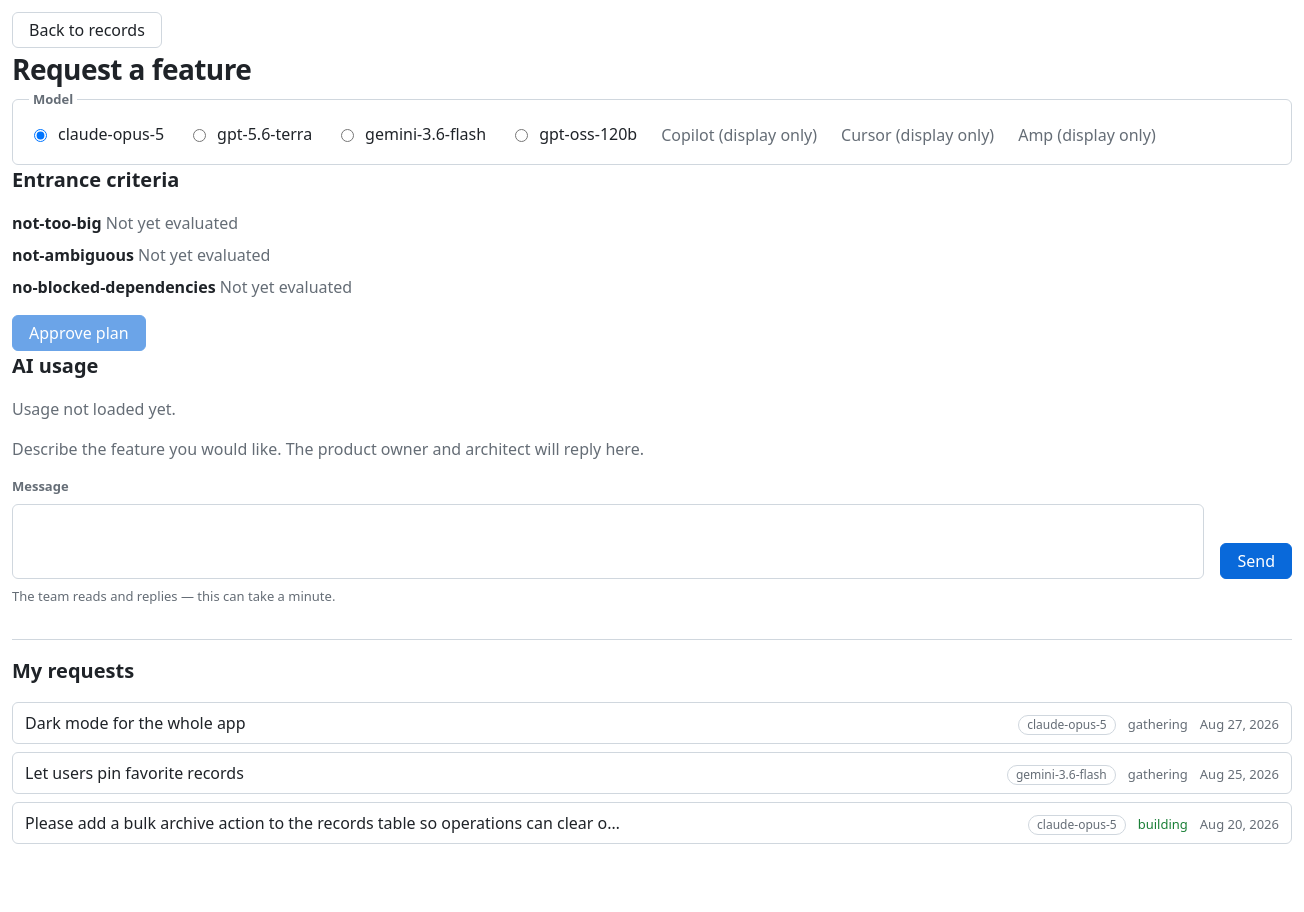
Test: DAN-74 tester — the list never interferes with starting fresh › the new-request flow stays the default action and unmounts the list once used
Expected: the radio button labelled "claude-opus-5" is checked, top-left (34, 128), bottom-right (47, 142)
Expected: the radio button labelled "claude-opus-5" is enabled, top-left (34, 128), bottom-right (47, 142)
Type "Export records as CSV" into the text box labelled "Message" at (608, 542), box top-left (12, 504), bottom-right (1204, 579)
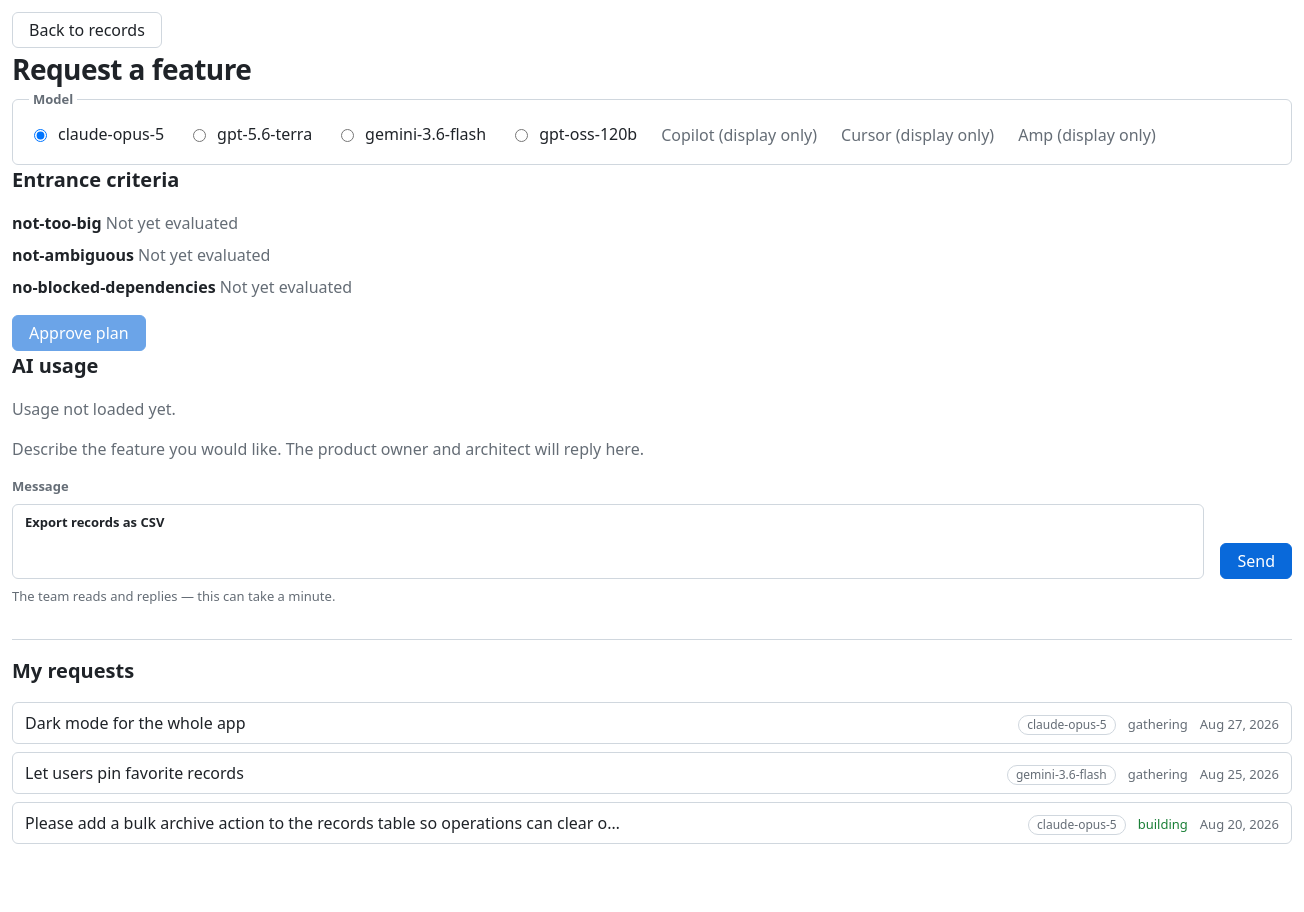
Click the button "Send" at (1256, 561), box top-left (1220, 543), bottom-right (1292, 579)
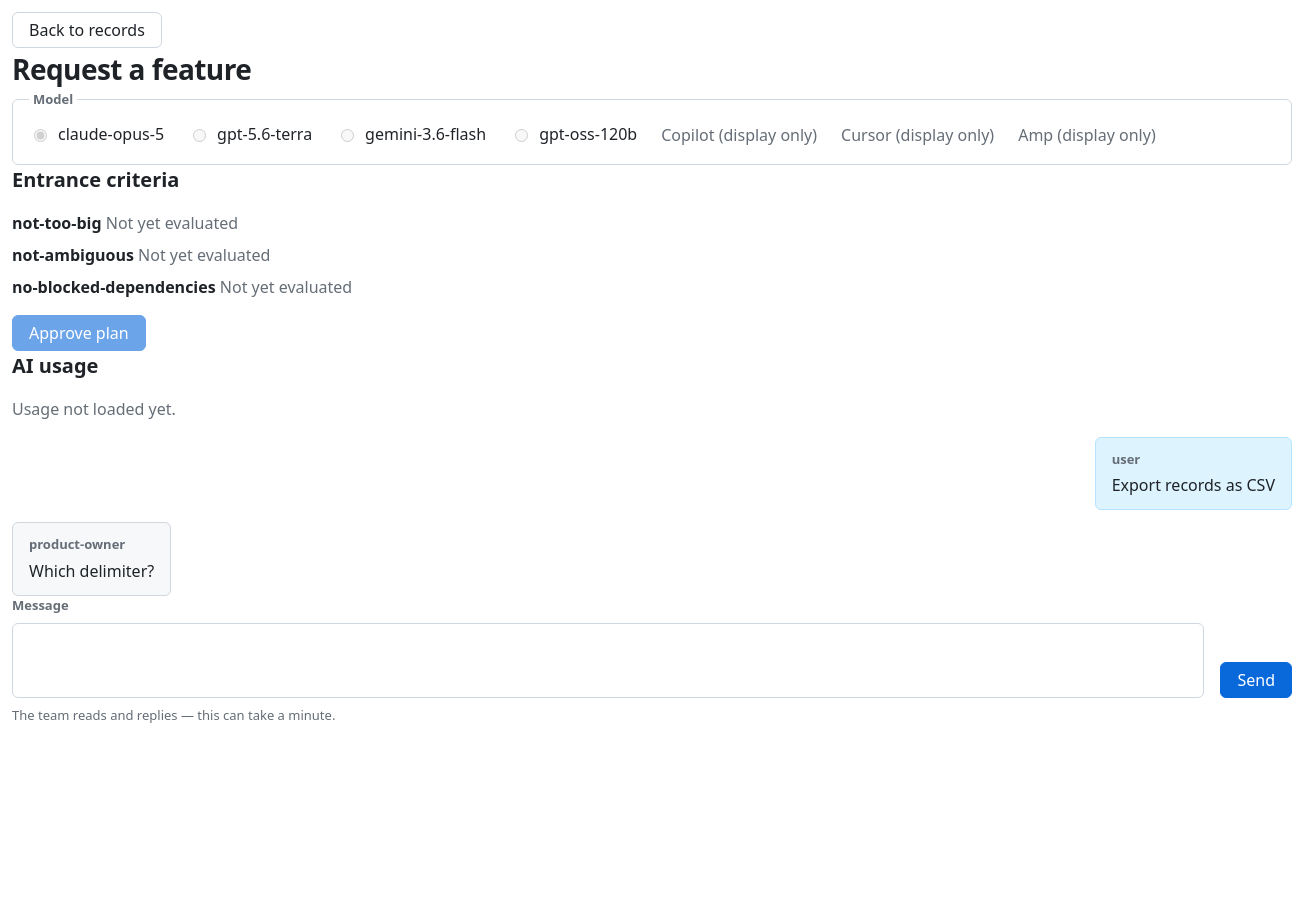
Result: the list named "Conversation" is shown at top-left (12, 436), bottom-right (1292, 596)
Result: the heading "My requests" is gone
